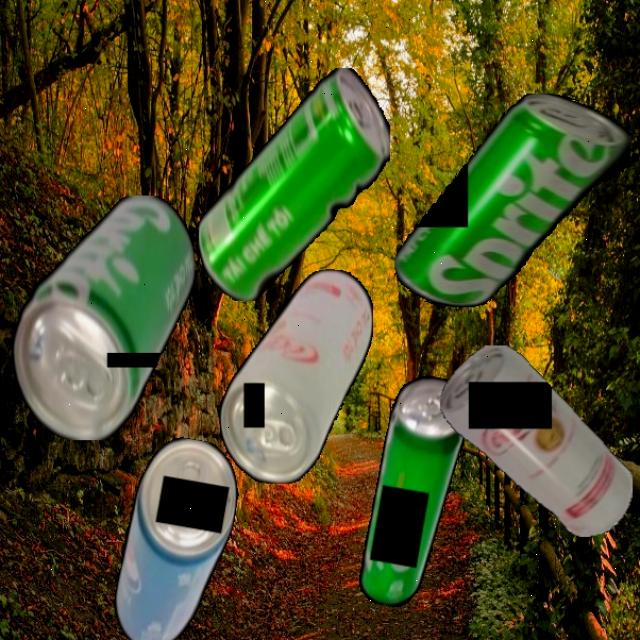debris: (394, 92, 630, 308), (198, 67, 390, 301), (12, 195, 195, 440), (439, 345, 633, 537), (219, 268, 373, 484), (353, 370, 473, 613), (107, 431, 246, 640)
